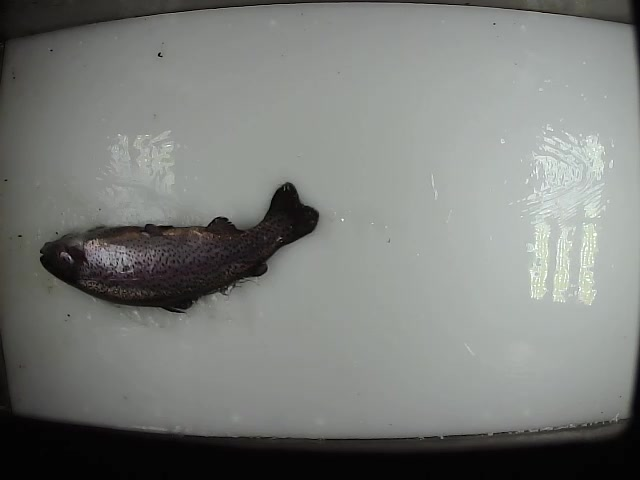fish: (38, 180, 321, 317)
